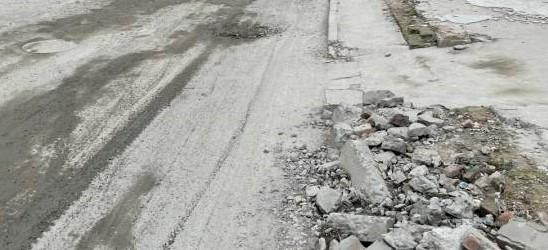pothole: (296, 96, 548, 250), (210, 20, 282, 43)
